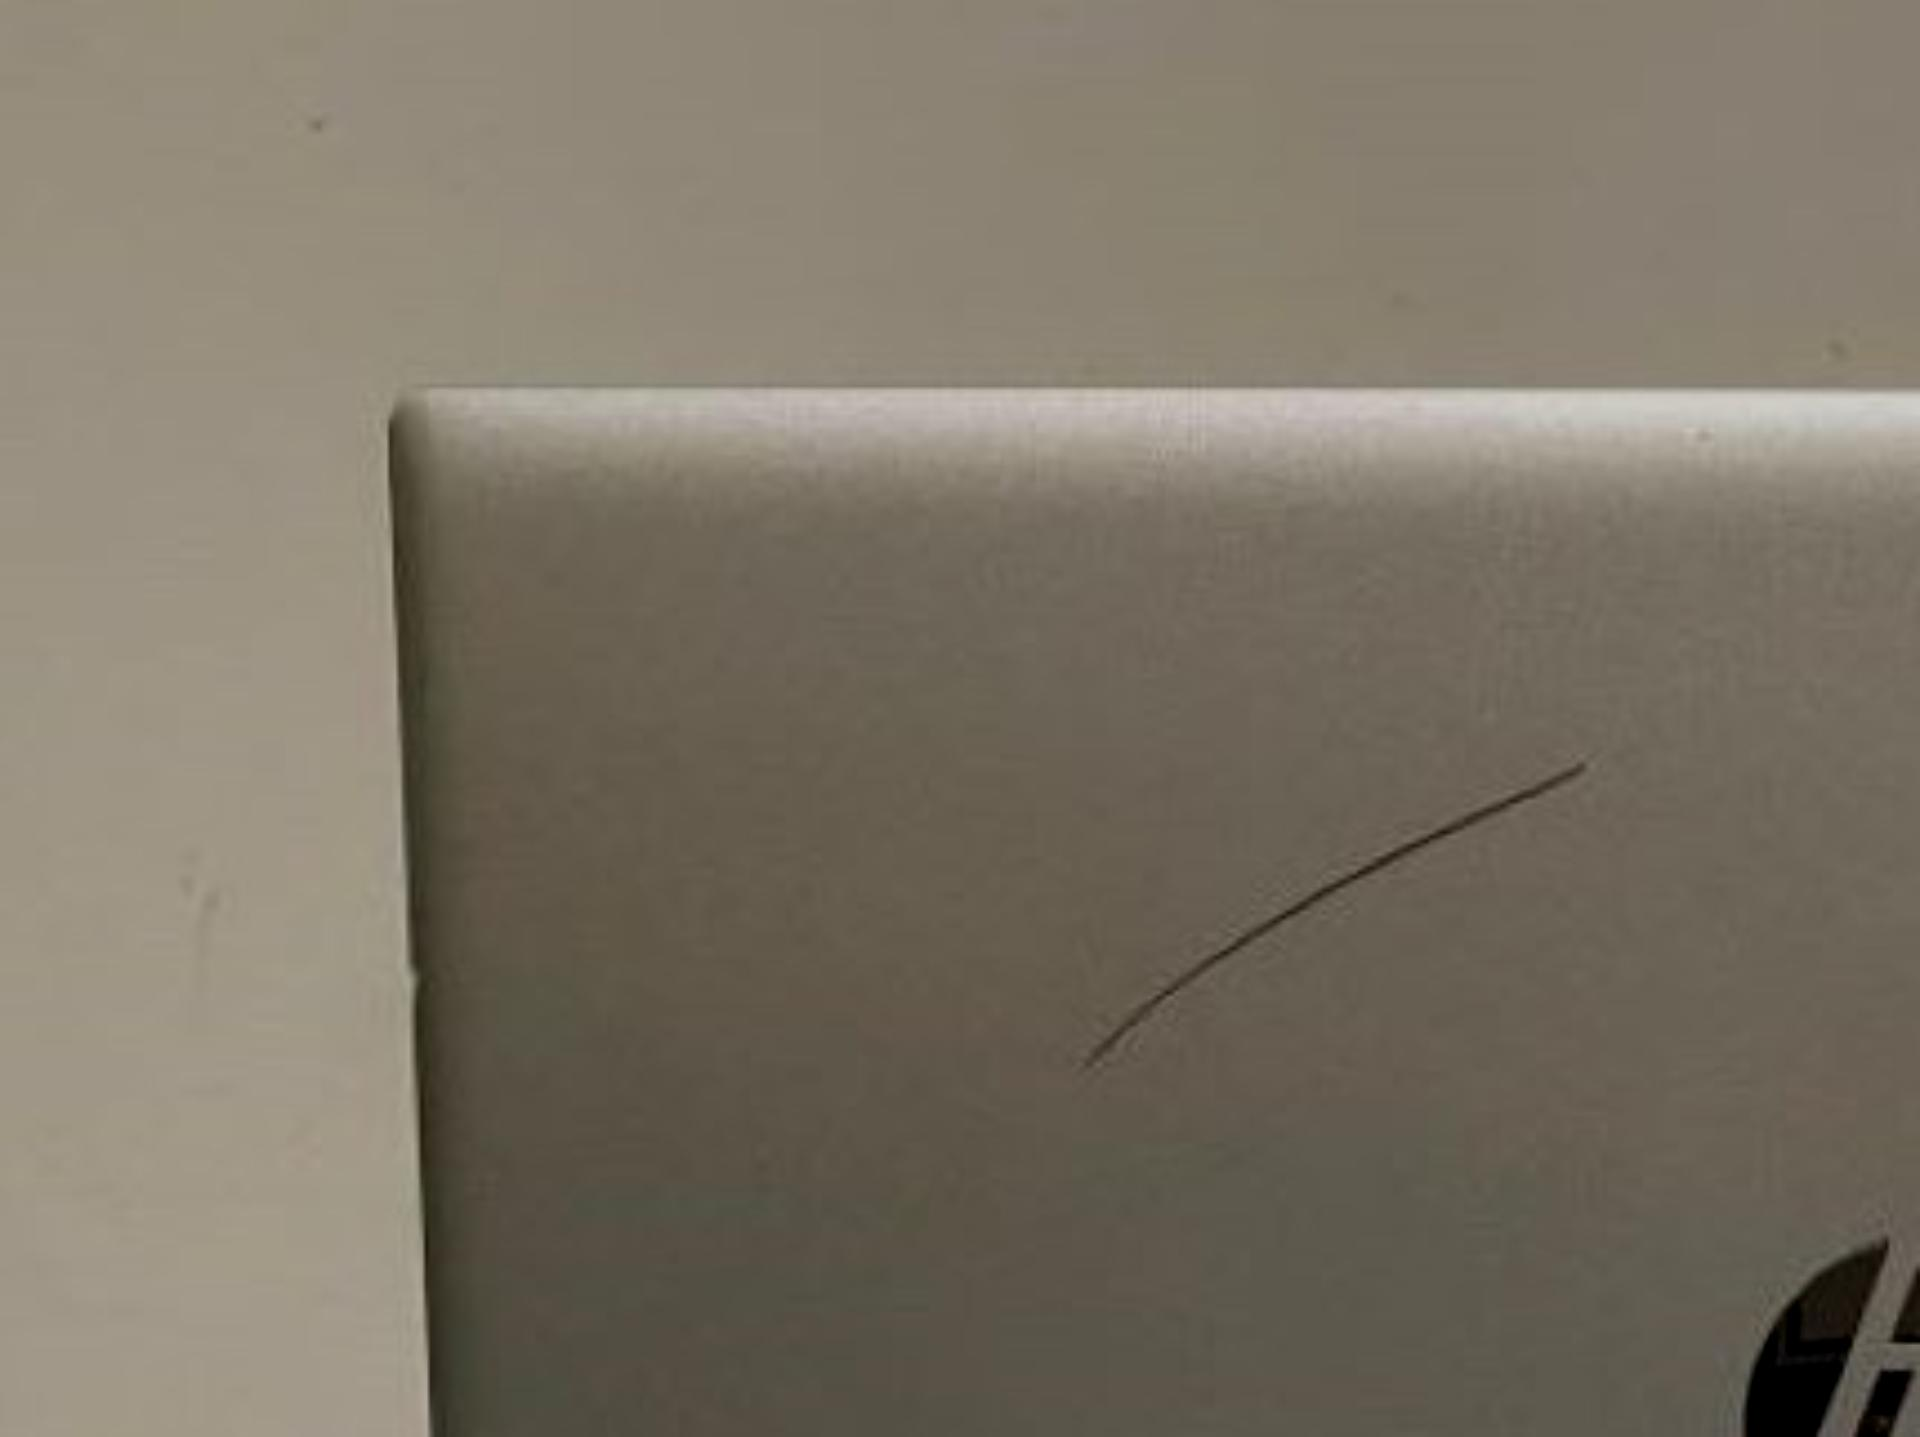scratches: (1076, 759, 1580, 1067)
